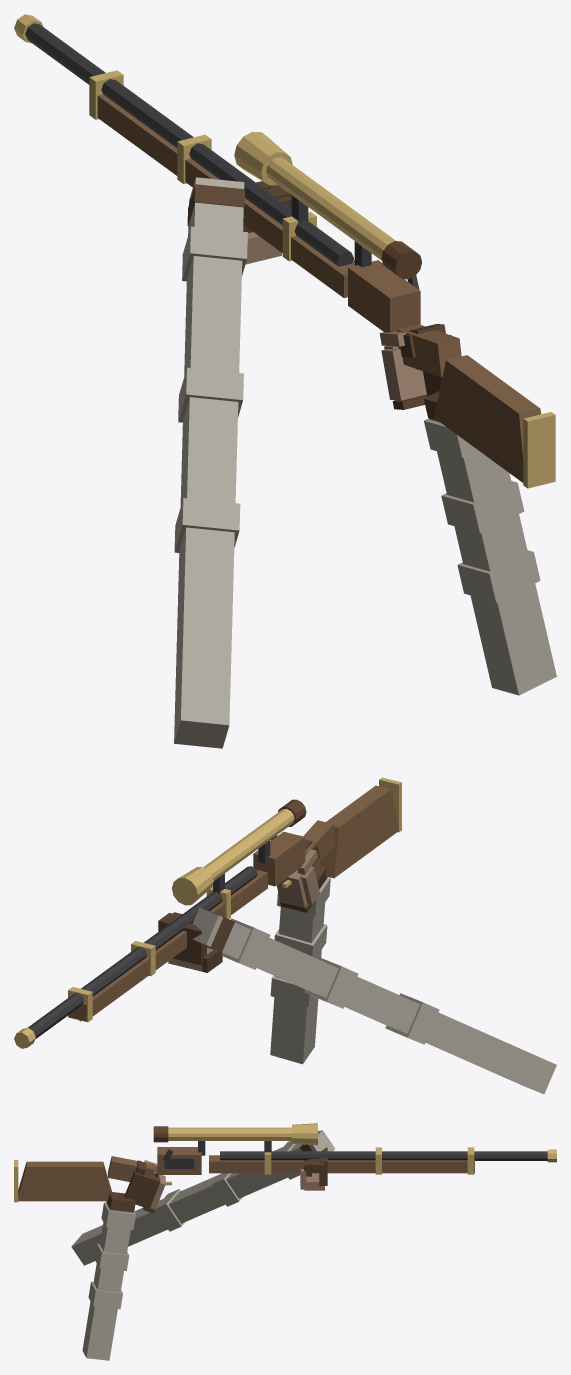
Rendered from musket.glb.
The picture shows the model from 3 angles, top to bottom: view 1: azimuth 30°, elevation 25°; view 2: azimuth 150°, elevation 25°; view 3: azimuth 270°, elevation 25°; orthographic projection. The views are drawn at different scales.
Parts seen in each view (by area): view 1: ML_Forearm, MR_Forearm, M_Butt, M_Barrel, M_Forend, M_Breech, M_Glass, MR_Wrap1, MR_Wrap2, M_ButtPlate, ML_Wrap1, ML_Wrap0 (+7 smaller); view 2: ML_Forearm, M_Butt, MR_Forearm, M_Barrel, M_Forend, M_Glass, M_Breech, M_GlassFront, ML_Wrap2, ML_Wrap1, ML_Wrap0, M_Wrist (+8 smaller); view 3: ML_Forearm, M_Butt, M_Forend, M_Barrel, MR_Forearm, M_Glass, M_Breech, MR_Palm, M_Wrist, MR_Wrap0, MR_Wrap1, MR_Wrap2 (+5 smaller).
Boxes of the visible parts, <box> form: ML_Forearm: <box>174,177,244,748</box>; MR_Forearm: <box>429,418,556,695</box>; M_Butt: <box>434,355,541,482</box>; M_Barrel: <box>25,23,353,266</box>; M_Forend: <box>97,94,354,297</box>; M_Breech: <box>348,260,420,332</box>; M_Glass: <box>266,157,395,260</box>; MR_Wrap1: <box>441,481,524,533</box>; MR_Wrap2: <box>457,550,540,602</box>; M_ButtPlate: <box>523,412,555,488</box>; ML_Wrap1: <box>178,367,243,422</box>; ML_Wrap0: <box>182,226,247,281</box>; ML_Forearm: <box>192,907,556,1094</box>; M_Butt: <box>318,785,398,878</box>; MR_Forearm: <box>270,879,326,1064</box>; M_Barrel: <box>27,866,257,1038</box>; M_Forend: <box>69,869,267,1020</box>; M_Glass: <box>203,808,294,880</box>; M_Breech: <box>253,831,305,886</box>; M_GlassFront: <box>172,867,213,905</box>; ML_Wrap2: <box>385,993,439,1044</box>; ML_Wrap1: <box>304,957,358,1008</box>; ML_Wrap0: <box>222,918,270,969</box>; M_Wrist: <box>303,820,335,867</box>; ML_Forearm: <box>71,1130,335,1265</box>; M_Butt: <box>18,1161,111,1201</box>; M_Forend: <box>209,1155,474,1173</box>; M_Barrel: <box>220,1151,547,1160</box>; MR_Forearm: <box>82,1203,133,1360</box>; M_Glass: <box>168,1127,291,1140</box>; M_Breech: <box>157,1147,201,1174</box>; MR_Palm: <box>124,1170,160,1208</box>; M_Wrist: <box>108,1156,154,1181</box>; MR_Wrap0: <box>101,1202,135,1229</box>; MR_Wrap1: <box>94,1243,129,1271</box>; MR_Wrap2: <box>88,1281,122,1309</box>.
Bounding box in the file's own units: 0.624 × 0.6552 × 1.47.
